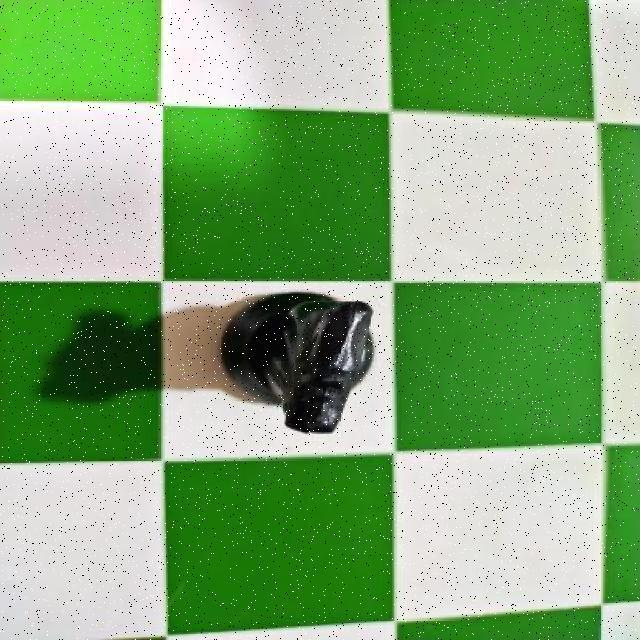black-knight: (221, 290, 375, 433)
